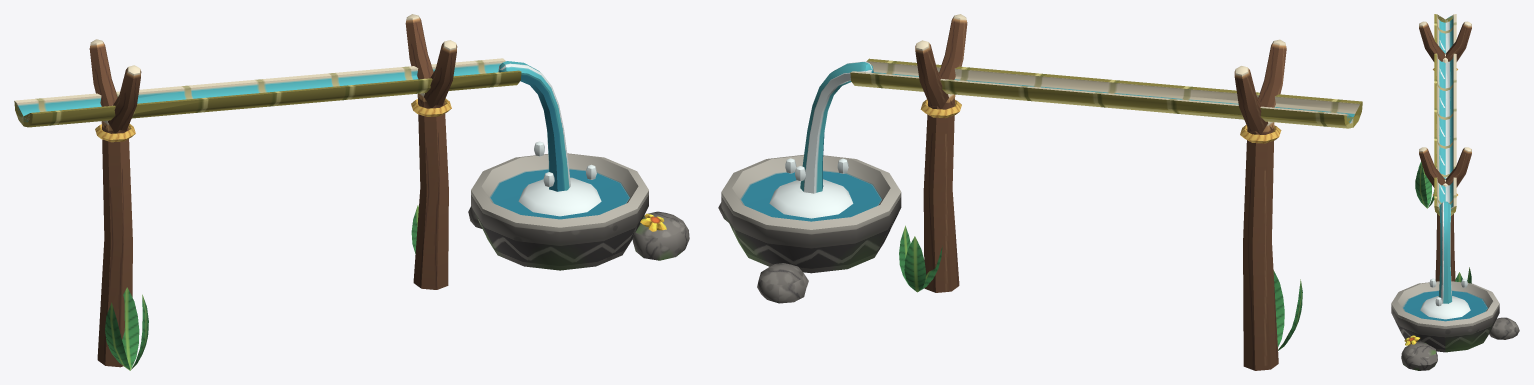
The model's file is water_pipe.glb.
3 views of the same model, side by side, from view 1: azimuth 30°, elevation 25°; view 2: azimuth 150°, elevation 25°; view 3: azimuth 270°, elevation 25° (orthographic). The views are drawn at different scales.
Parts seen in each view (by area): view 1: water_pipe, water_pipe__water; view 2: water_pipe, water_pipe__water; view 3: water_pipe, water_pipe__water.
Part boxes in pixels (bbox=[...]): water_pipe: bbox=[14, 14, 689, 370]; water_pipe__water: bbox=[498, 61, 601, 216]; water_pipe: bbox=[718, 14, 1362, 370]; water_pipe__water: bbox=[769, 61, 873, 218]; water_pipe: bbox=[1391, 14, 1519, 370]; water_pipe__water: bbox=[1420, 201, 1470, 319].
Size of the model in its own units: 4.03 by 1.84 by 1.14.
1 material, 1 textured.
